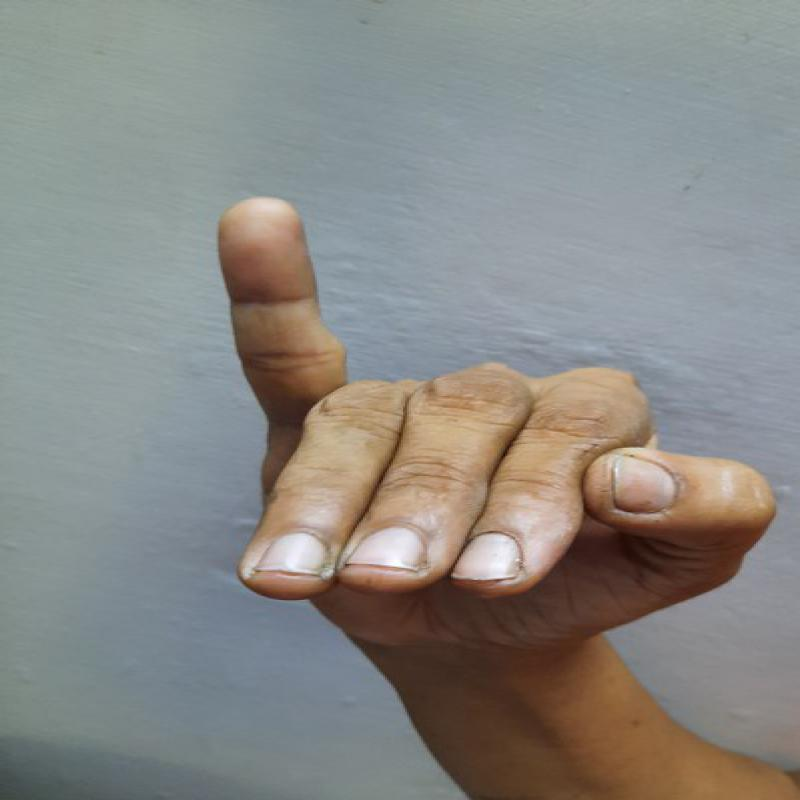Kartharee Mukham: (188, 170, 785, 685)
